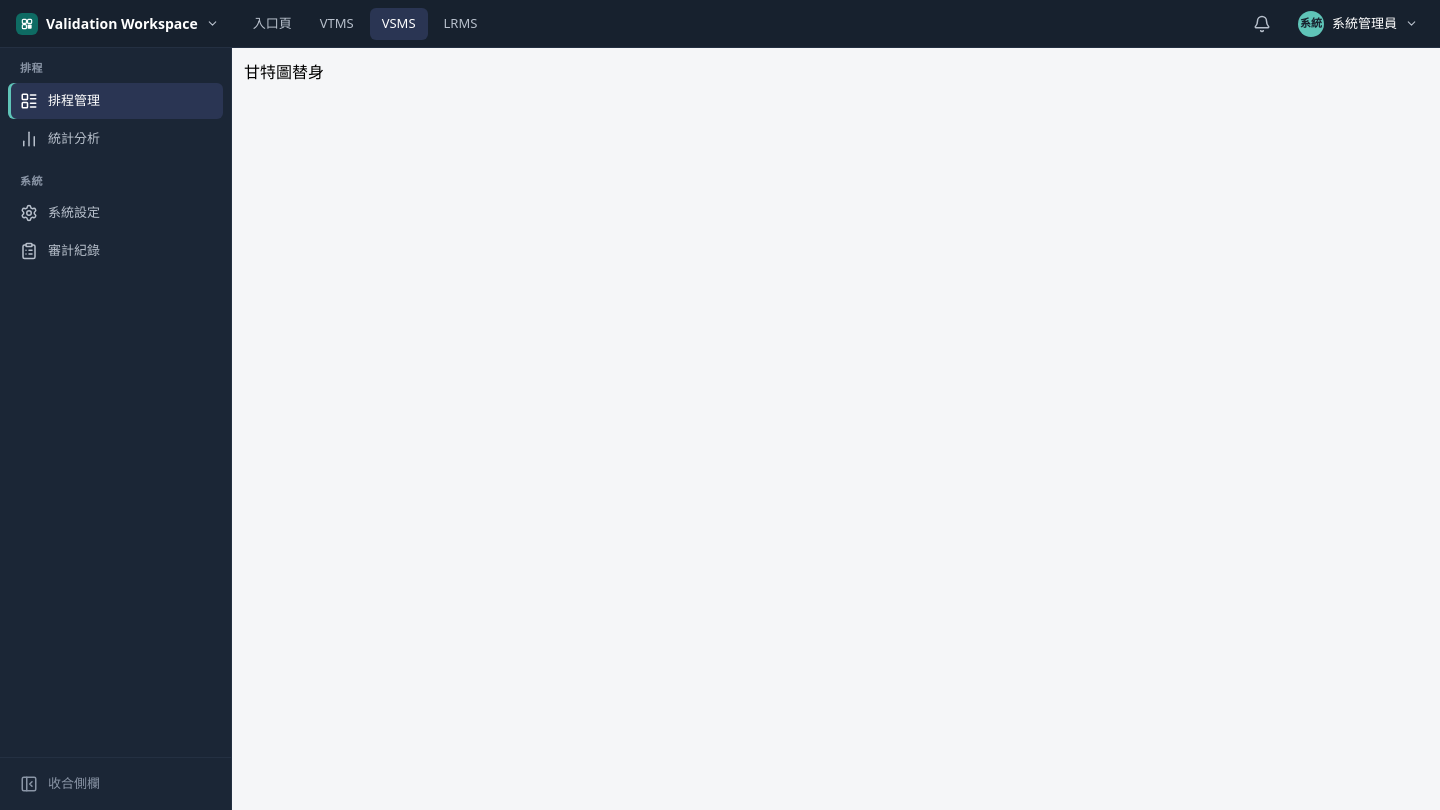
App 外框 › 點側欄「統計分析」切到統計頁，該項成為目前頁
The width and height of the screenshot is (1440, 810).
Click the button "統計分析": coordinates (116, 138) [8,120,223,156]
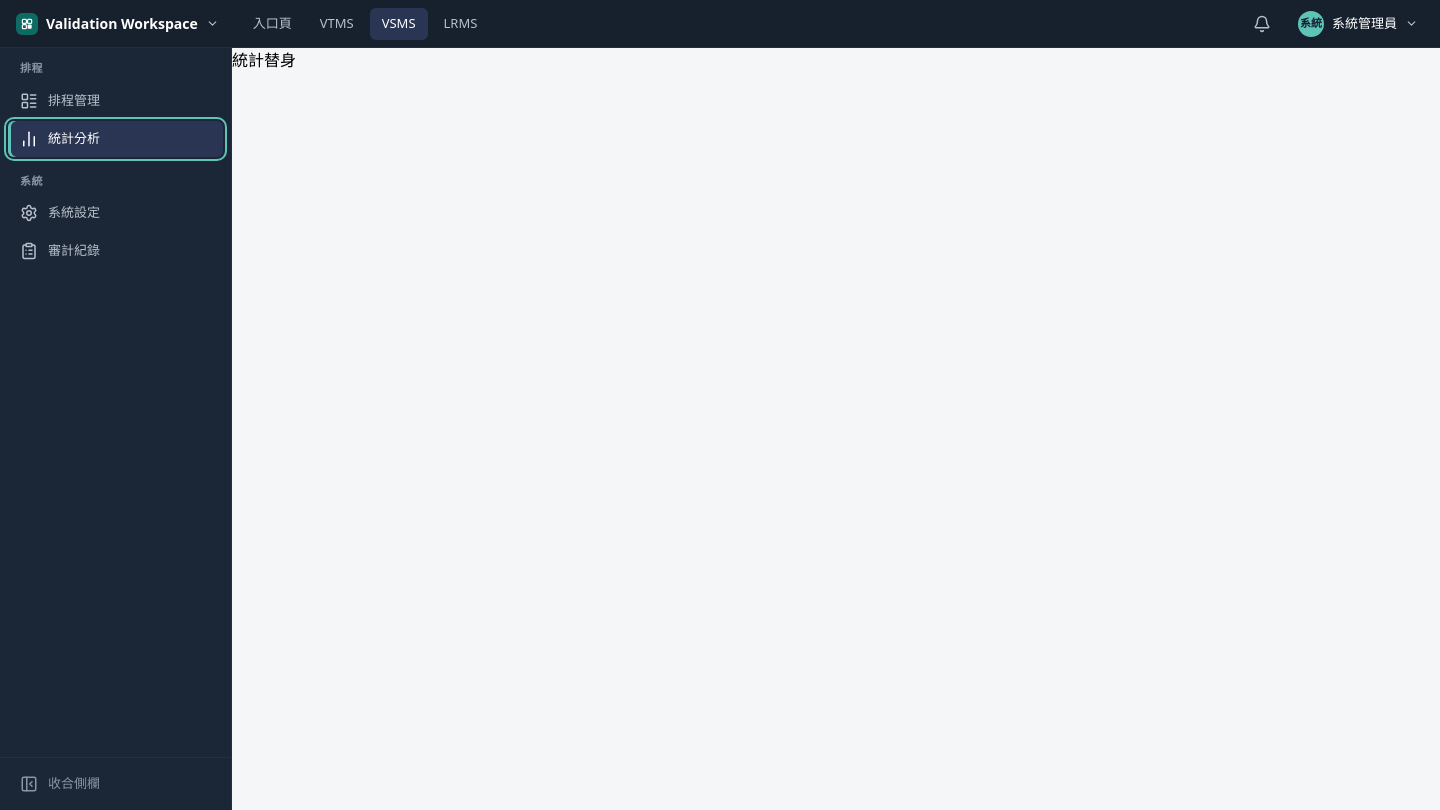
Now the text "統計替身" is shown, box [232,49,296,71]
